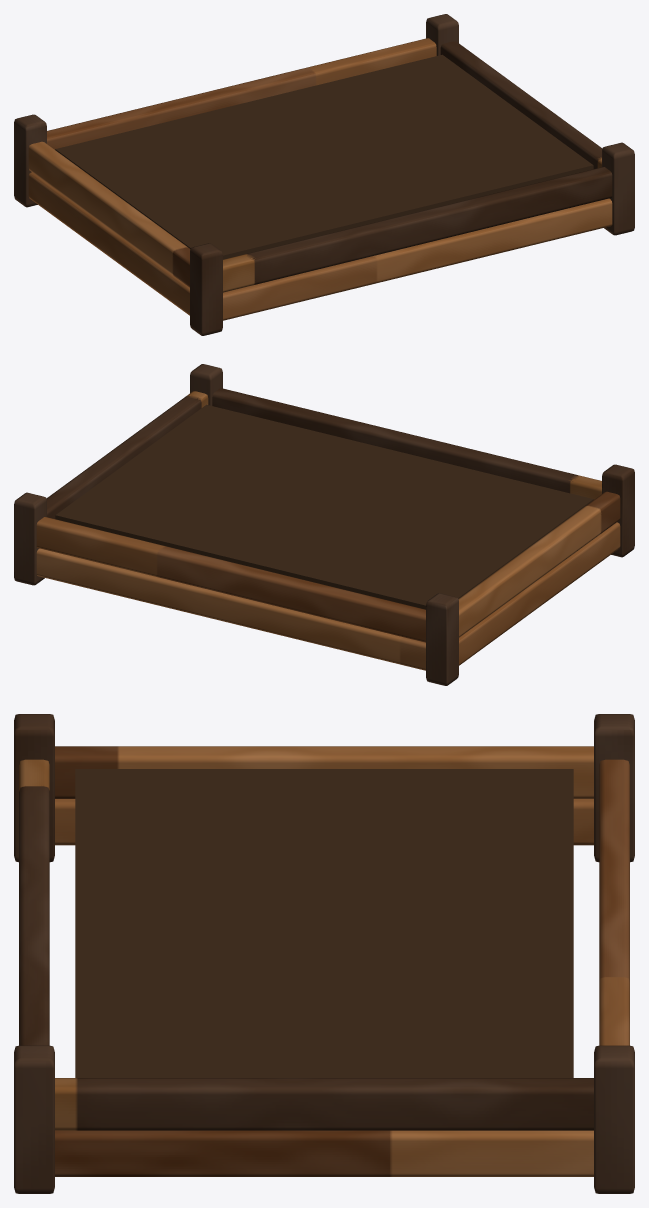
File: farm_bed_empty.glb
The picture shows the model from 3 angles, top to bottom: view 1: azimuth 30°, elevation 25°; view 2: azimuth 150°, elevation 25°; view 3: azimuth 270°, elevation 25°; orthographic projection. The views are drawn at different scales.
Parts seen in each view (by area): view 1: Soil_Surface, Frame_Front.001, Frame_Front, Frame_Back.001, Frame_Left.001, Frame_Left, Frame_Right.001, Frame_CornerPost.001, Frame_CornerPost.003, Frame_CornerPost, Frame_CornerPost.002; view 2: Soil_Surface, Frame_Back.001, Frame_Back, Frame_Front.001, Frame_Left.001, Frame_Left, Frame_Right.001, Frame_CornerPost, Frame_CornerPost.002, Frame_CornerPost.001, Frame_CornerPost.003; view 3: Soil_Surface, Frame_Right.001, Frame_Right, Frame_Left.001, Frame_Back.001, Frame_Front.001, Frame_CornerPost.002, Frame_CornerPost.003, Frame_CornerPost, Frame_CornerPost.001, Frame_Left.
Boxes of the visible parts, <box> form: Soil_Surface: <box>55,54,593,259</box>; Frame_Front.001: <box>223,167,612,292</box>; Frame_Front: <box>223,198,612,320</box>; Frame_Back.001: <box>47,38,436,149</box>; Frame_Left.001: <box>28,141,190,287</box>; Frame_Left: <box>28,172,189,315</box>; Frame_Right.001: <box>440,41,602,168</box>; Frame_CornerPost.001: <box>190,243,222,335</box>; Frame_CornerPost.003: <box>602,142,634,235</box>; Frame_CornerPost: <box>14,114,46,207</box>; Frame_CornerPost.002: <box>426,14,458,55</box>; Soil_Surface: <box>55,404,593,609</box>; Frame_Back.001: <box>36,517,425,642</box>; Frame_Back: <box>36,548,425,670</box>; Frame_Front.001: <box>212,388,601,499</box>; Frame_Left.001: <box>458,491,620,637</box>; Frame_Left: <box>459,522,620,665</box>; Frame_Right.001: <box>46,391,208,518</box>; Frame_CornerPost: <box>426,593,458,685</box>; Frame_CornerPost.002: <box>14,492,46,585</box>; Frame_CornerPost.001: <box>602,464,634,557</box>; Frame_CornerPost.003: <box>190,364,222,405</box>; Soil_Surface: <box>75,769,573,1077</box>; Frame_Right.001: <box>55,1078,593,1130</box>; Frame_Right: <box>55,1130,593,1176</box>; Frame_Left.001: <box>55,746,593,798</box>; Frame_Back.001: <box>599,759,629,1045</box>; Frame_Front.001: <box>19,759,49,1045</box>; Frame_CornerPost.002: <box>594,1045,634,1193</box>; Frame_CornerPost.003: <box>14,1045,54,1193</box>; Frame_CornerPost: <box>594,714,634,862</box>; Frame_CornerPost.001: <box>14,714,54,862</box>; Frame_Left: <box>55,799,593,845</box>.
Bounding box in the file's own units: 2.42 × 0.44 × 1.82.
Materials: 3 (3 with a texture image).
